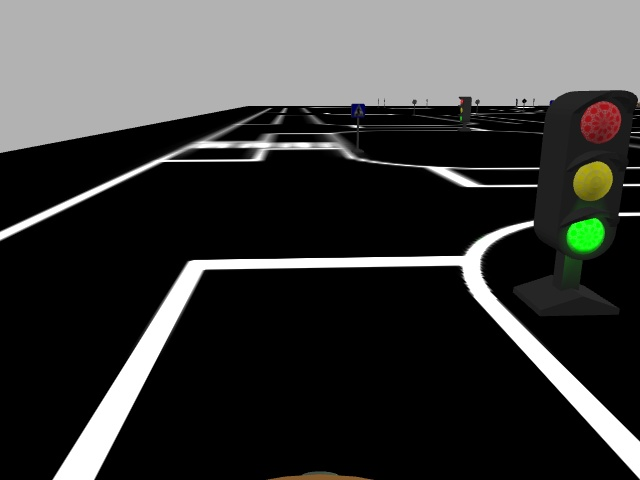green_light: (546, 93, 633, 264)
